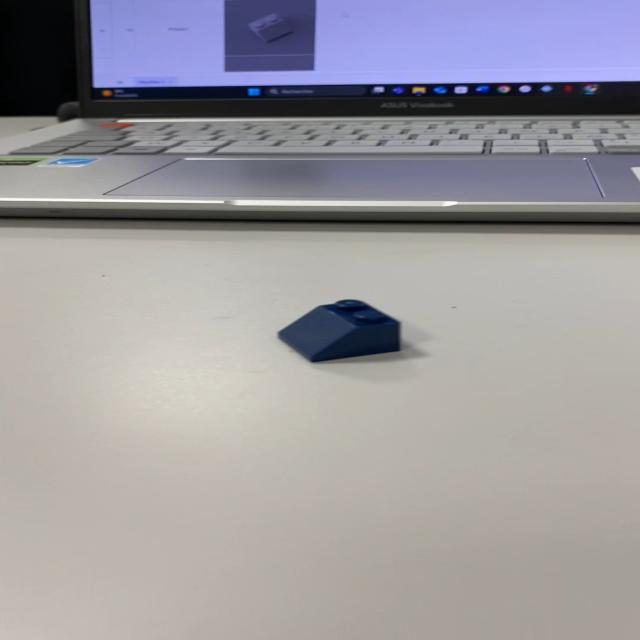P2x2x1: (276, 298, 411, 363)
